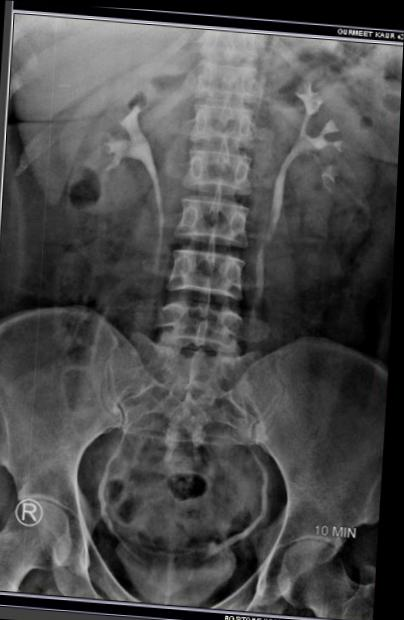bladder: (107, 536, 241, 619)
left kidney: (278, 48, 394, 237)
right kidney: (44, 55, 161, 227)
vertebrae: (180, 89, 260, 147)
